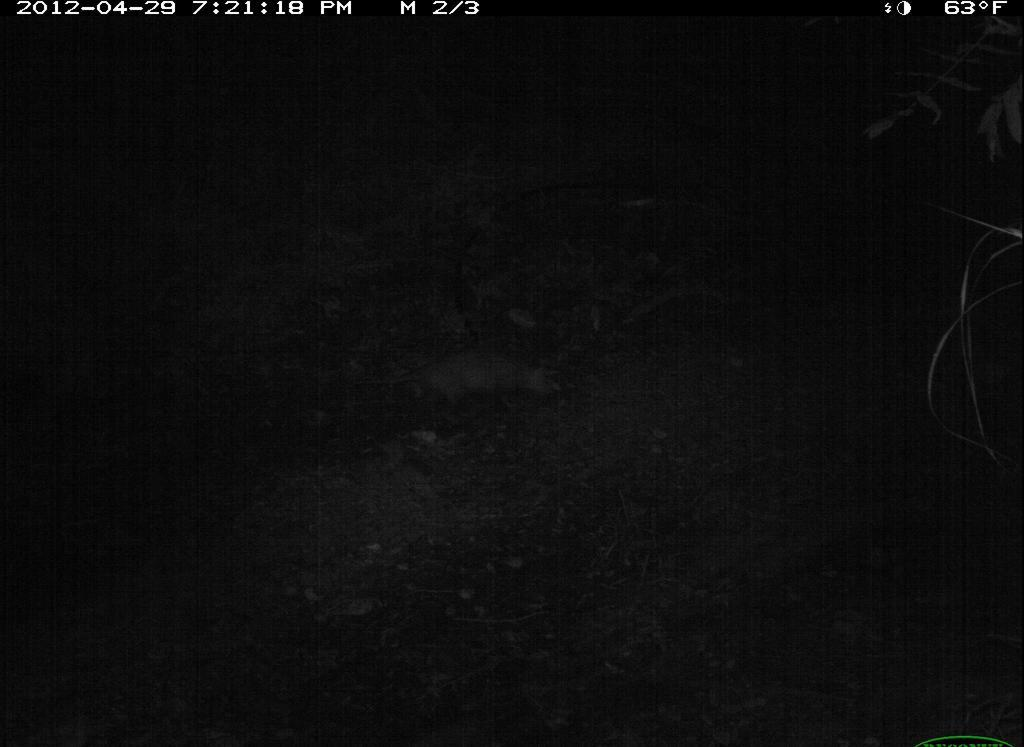opossum: (315, 328, 593, 429)
